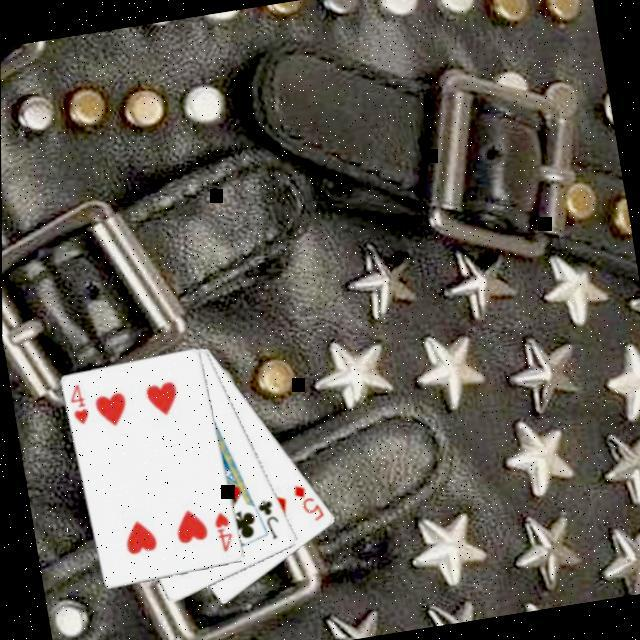4H: (66, 380, 94, 430), (210, 508, 238, 556)
5D: (290, 479, 328, 527)
JC: (254, 496, 285, 545)
